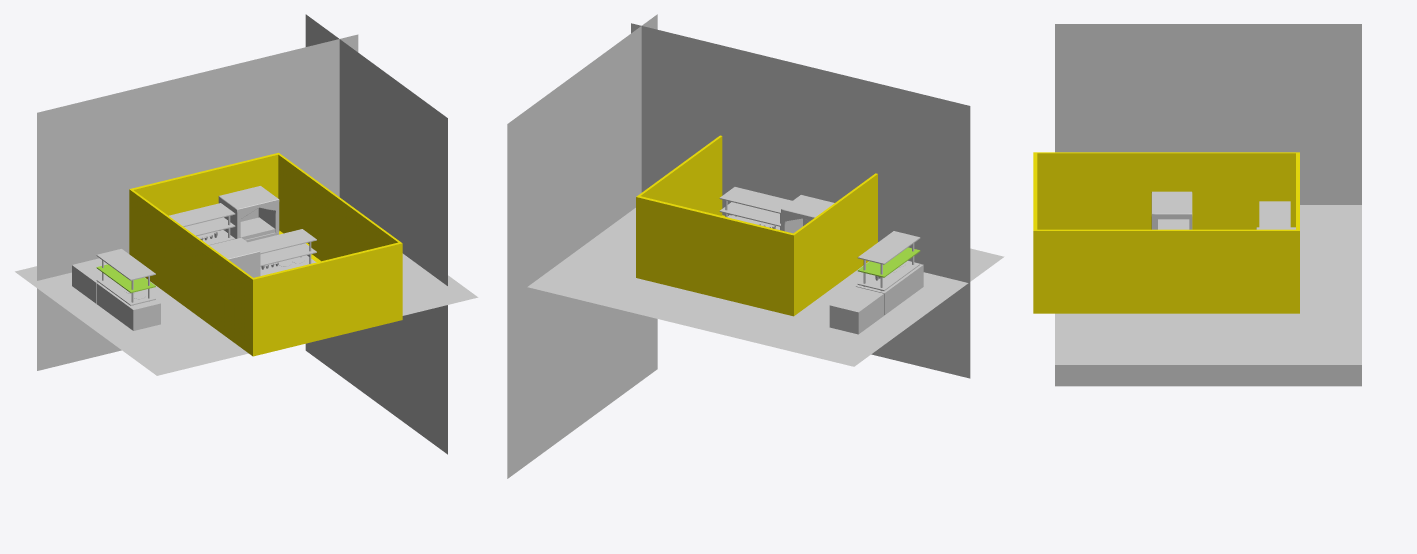
File: sacrifice-map.glb
The picture shows the model from 3 angles, left to right: view 1: azimuth 30°, elevation 25°; view 2: azimuth 150°, elevation 25°; view 3: azimuth 270°, elevation 25°; orthographic projection. The views are drawn at different scales.
Visible parts, largest first — view 1: Cube.1; view 2: Cube.1; view 3: Cube.1.
Boxes of the visible parts, x1,y1,x2,y2 form: Cube.1: [15, 14, 478, 454]; Cube.1: [507, 14, 1004, 478]; Cube.1: [1033, 24, 1361, 386].
Size of the model in its own units: 343 by 334 by 308.
